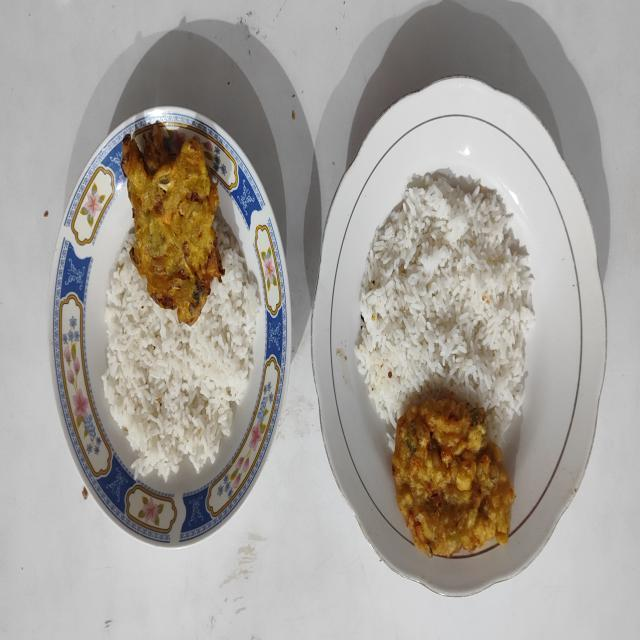nasi_putih: (356, 168, 534, 444), (102, 220, 261, 480)
